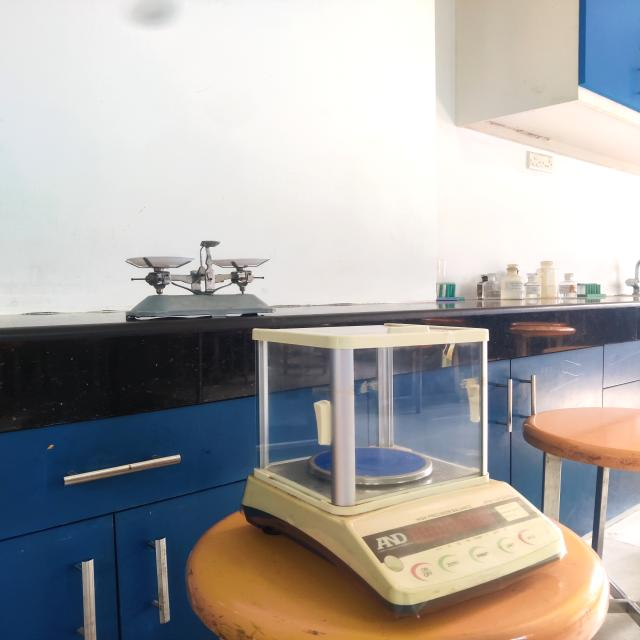Mechanical_Balance_Scale: (109, 218, 298, 334)
Precision_Weight_Scale: (226, 312, 595, 640)
